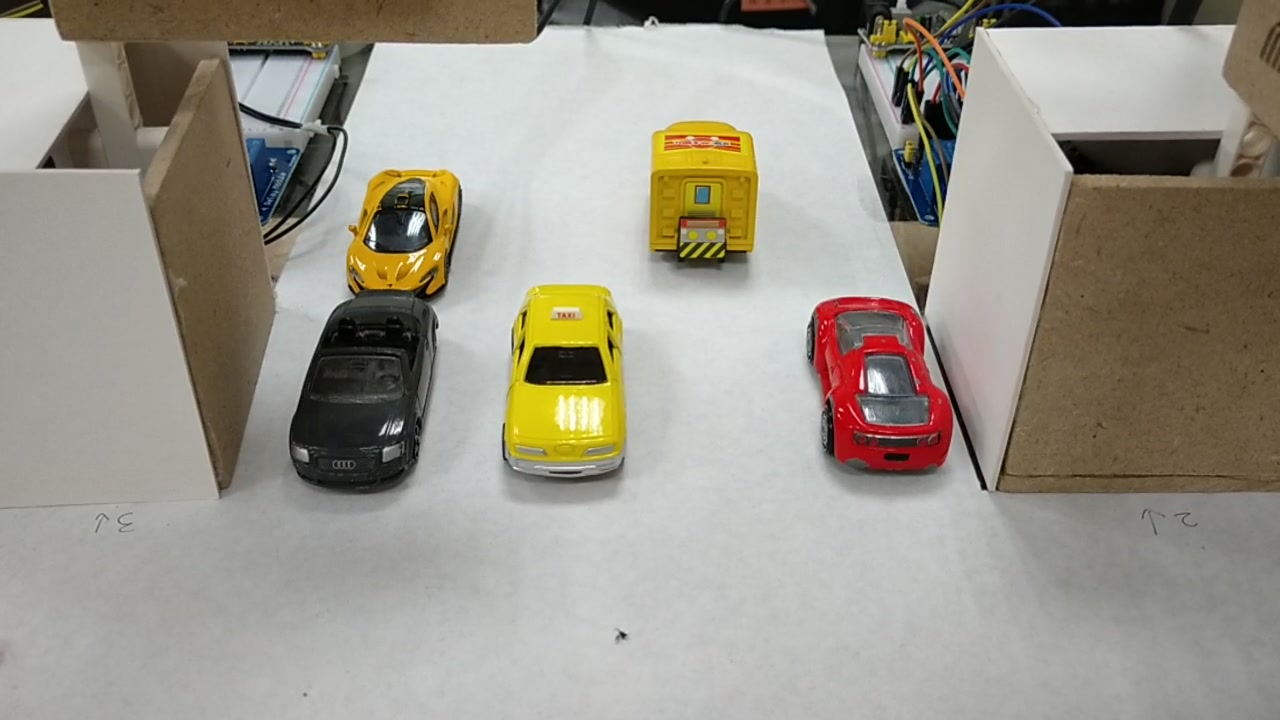car: (287, 289, 433, 485), (808, 297, 958, 470), (506, 285, 622, 485), (349, 161, 461, 298)
